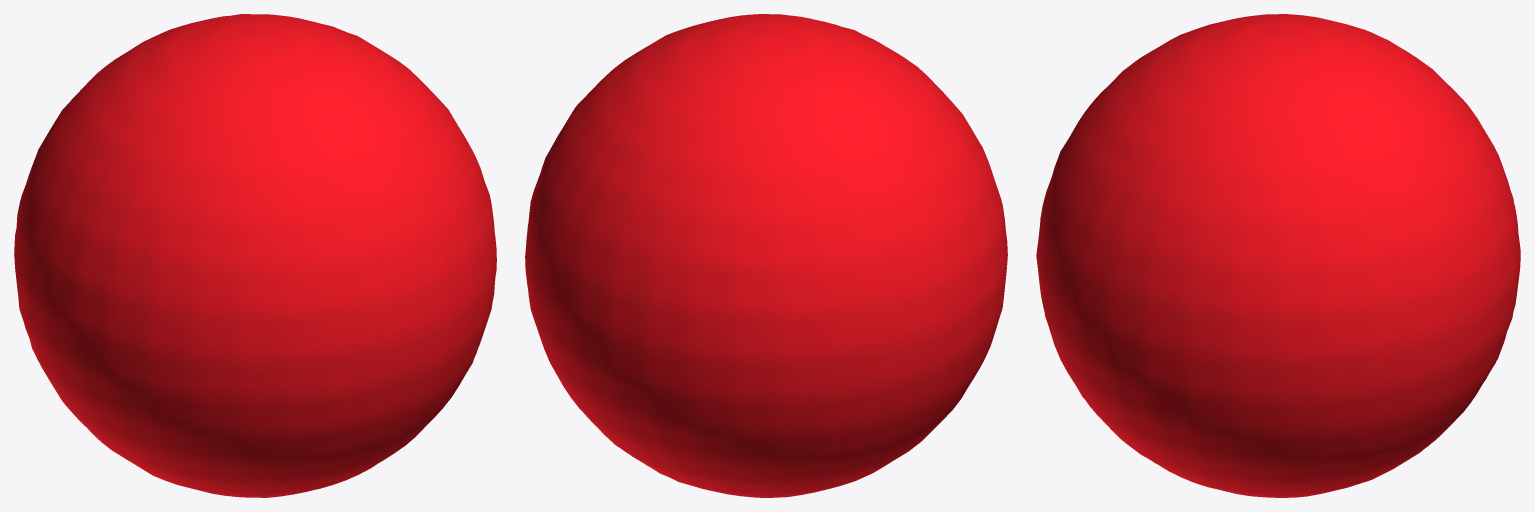
The model's file is BallRushChaser.glb.
3 views of the same model, side by side, from view 1: azimuth 30°, elevation 25°; view 2: azimuth 150°, elevation 25°; view 3: azimuth 270°, elevation 25° (orthographic).
Visible parts, largest first — view 1: BallRushPlayer; view 2: BallRushPlayer; view 3: BallRushPlayer.
Part boxes in pixels (box(x1,y1,x2,y2)): BallRushPlayer: box(14, 14, 496, 497); BallRushPlayer: box(525, 14, 1007, 497); BallRushPlayer: box(1036, 14, 1520, 497).
Size of the model in its own units: 2 by 2 by 2.
